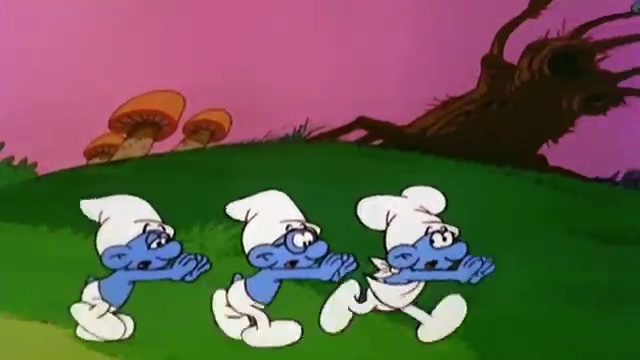smurf: (328, 183, 479, 343), (69, 194, 203, 343), (211, 188, 330, 347)
